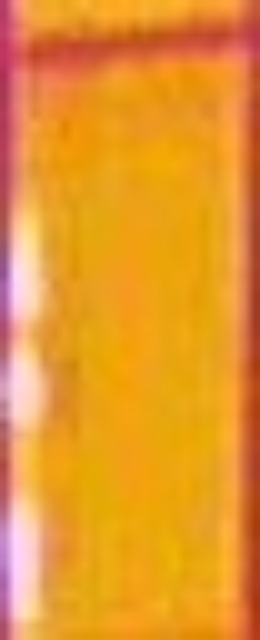Hotspot: (1, 173, 49, 619)
